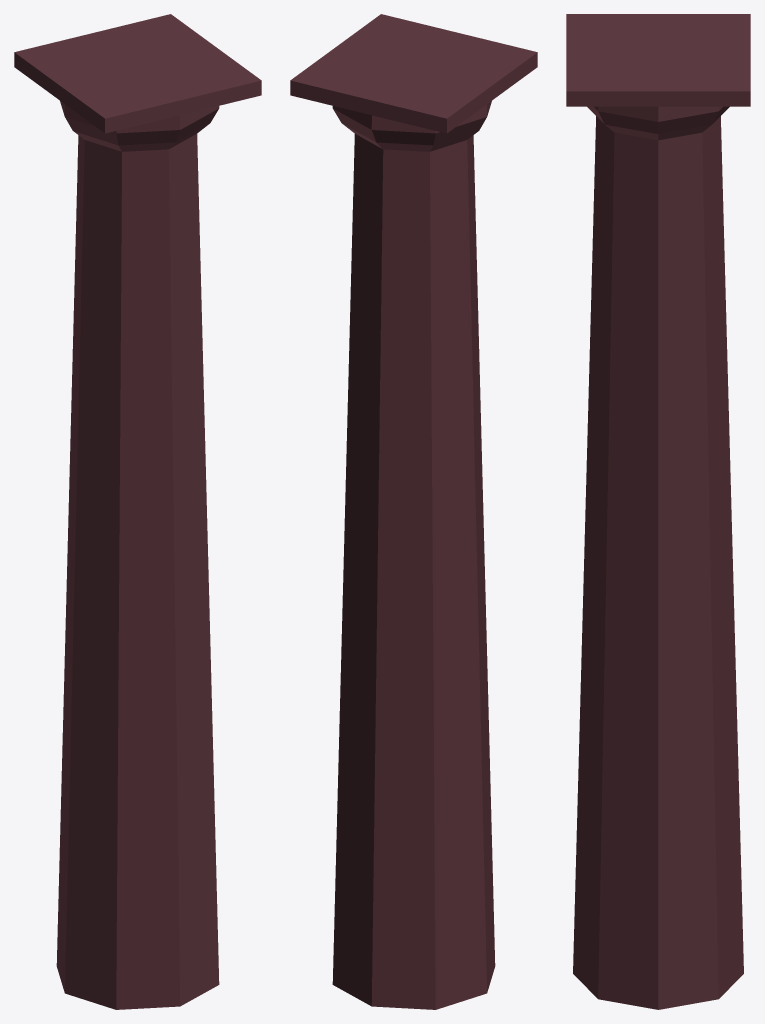
File: empire-pillar-doric-medium-empire.glb
3 renders of one model, left to right at view 1: azimuth 30°, elevation 25°; view 2: azimuth 150°, elevation 25°; view 3: azimuth 270°, elevation 25°, orthographic.
Parts seen in each view (by area): view 1: SM_Pillar_Doric_Medium_Empire; view 2: SM_Pillar_Doric_Medium_Empire; view 3: SM_Pillar_Doric_Medium_Empire.
Part boxes in pixels (x1,y1,x2,y2): SM_Pillar_Doric_Medium_Empire: [14, 14, 261, 1009]; SM_Pillar_Doric_Medium_Empire: [290, 14, 537, 1009]; SM_Pillar_Doric_Medium_Empire: [566, 14, 750, 1009].
Bounding box in the file's own units: 1.08 × 6 × 1.09.
